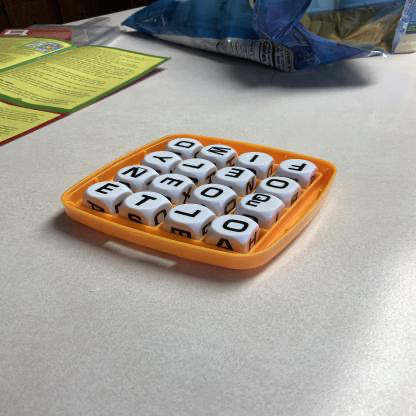d: (169, 139, 200, 151)
e: (88, 182, 126, 199), (153, 175, 191, 191), (218, 168, 252, 183)
f: (281, 160, 317, 174)
i: (239, 153, 273, 166)
l: (170, 205, 211, 225), (179, 159, 214, 174)
n: (118, 166, 154, 181)
o: (213, 216, 255, 237), (195, 185, 234, 202), (261, 178, 300, 194)
qu: (242, 194, 282, 213)
t: (126, 193, 165, 211)
w: (202, 146, 236, 158)
y: (146, 152, 179, 166)
